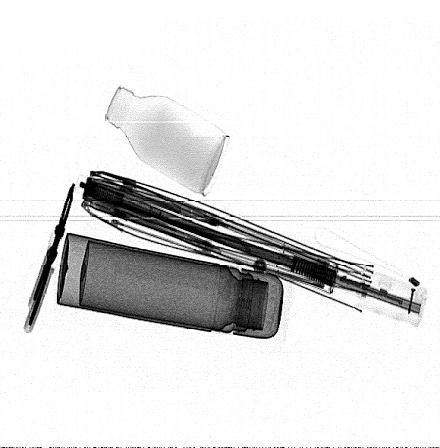Pliers: (27, 181, 77, 330)
